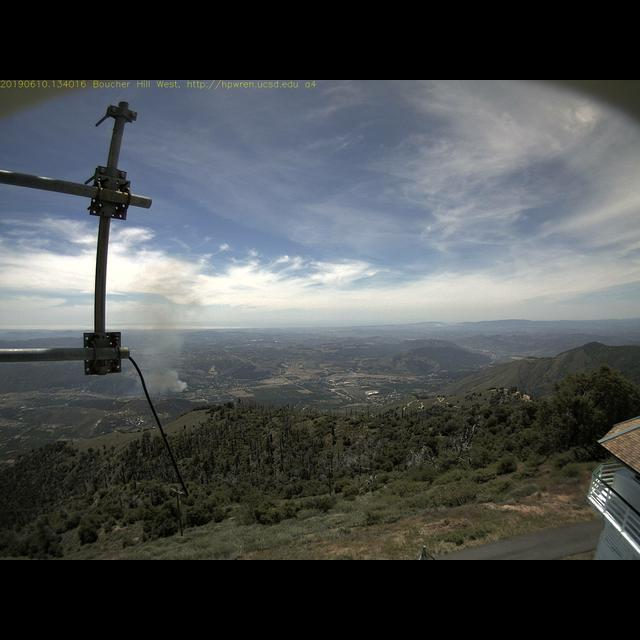Smoke: (125, 258, 193, 395)
